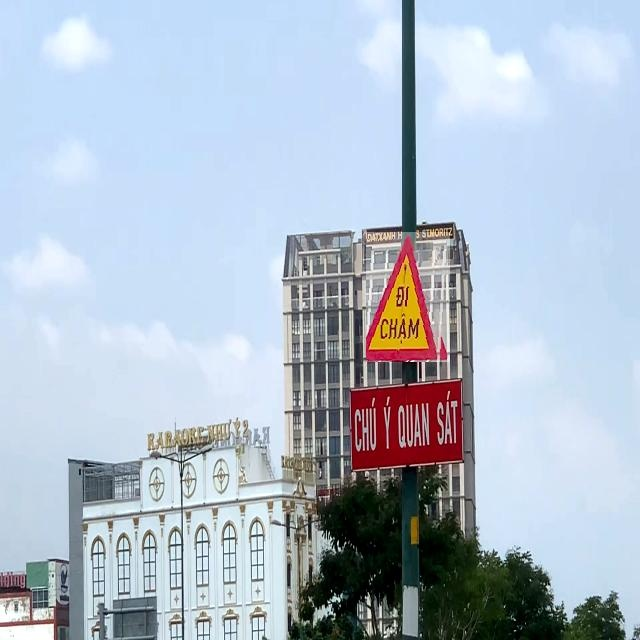bien_nguy_hiem: (366, 232, 450, 362)
